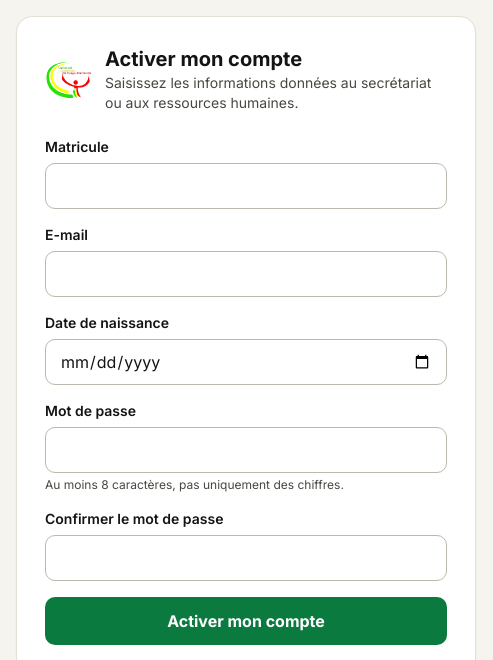
Activation du compte › échec : message du serveur
The width and height of the screenshot is (493, 660).
Type "UCCB26MOUDI00001" into the field labelled "Matricule" at [246, 186], box left=45, top=163, right=447, bottom=209
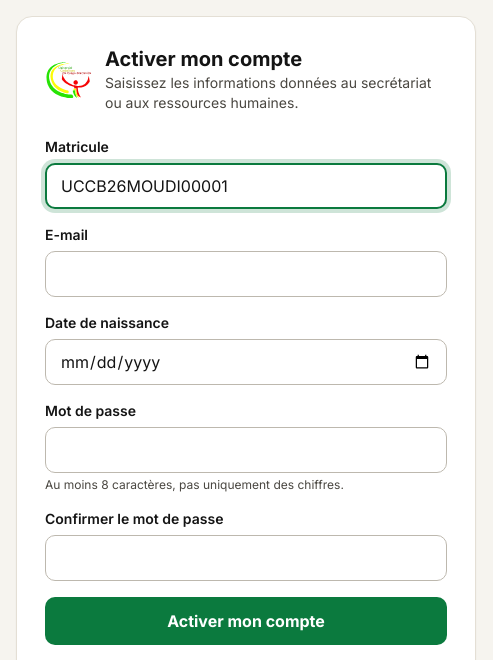
Type "divine@example.org" into the field labelled "E-mail" at [246, 274], box left=45, top=251, right=447, bottom=297
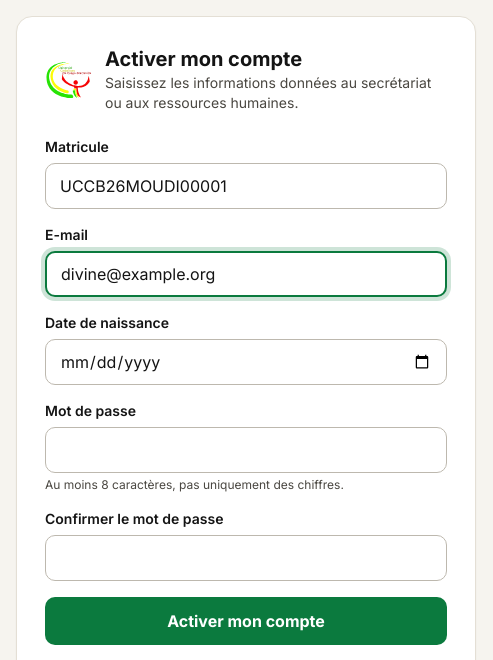
Type "2006-03-14" into the date field labelled "Date de naissance" at [246, 362], box left=45, top=339, right=447, bottom=385
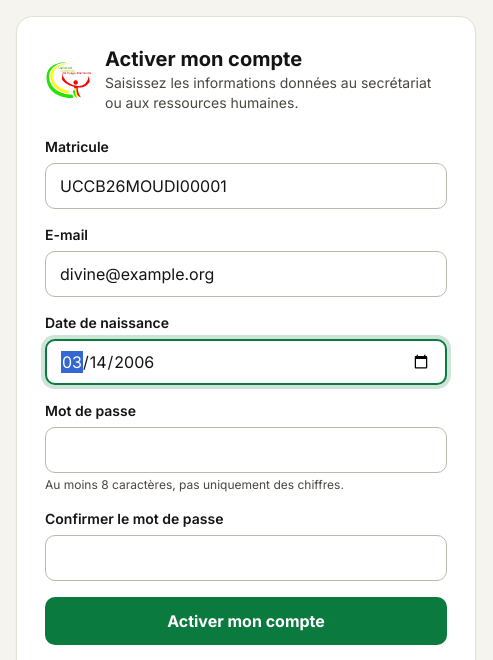
Type "Etudiant-UCCB-2026!" into the password field labelled "Mot de passe" at [246, 450], box left=45, top=427, right=447, bottom=473
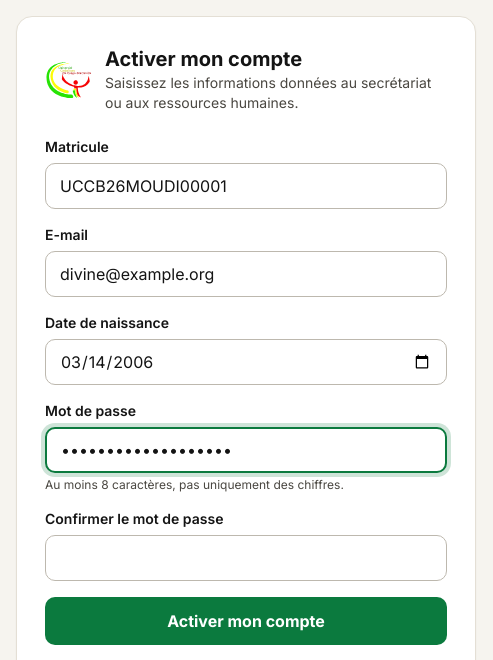
Type "Etudiant-UCCB-2026!" into the password field labelled "Confirmer le mot de passe" at [246, 558], box left=45, top=535, right=447, bottom=581
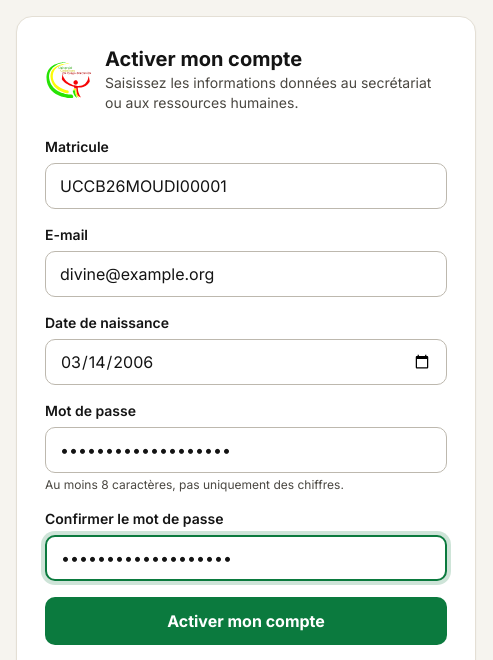
Click the button "Activer mon compte" at [246, 621], box left=45, top=597, right=447, bottom=645
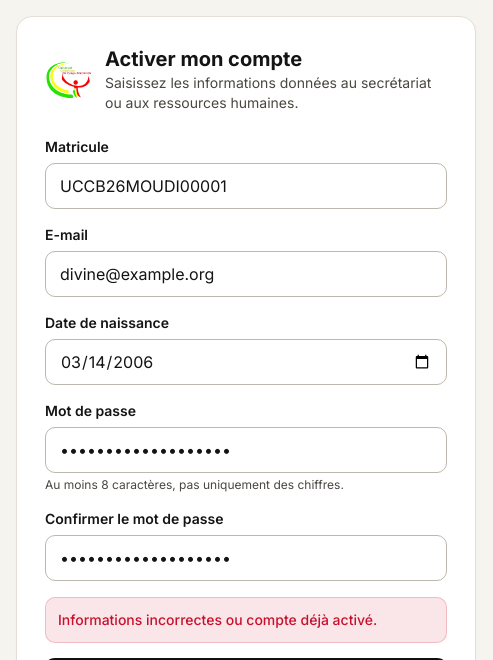
Check: the message reads "Informations incorrectes ou compte déjà activé.", box left=58, top=611, right=377, bottom=628
